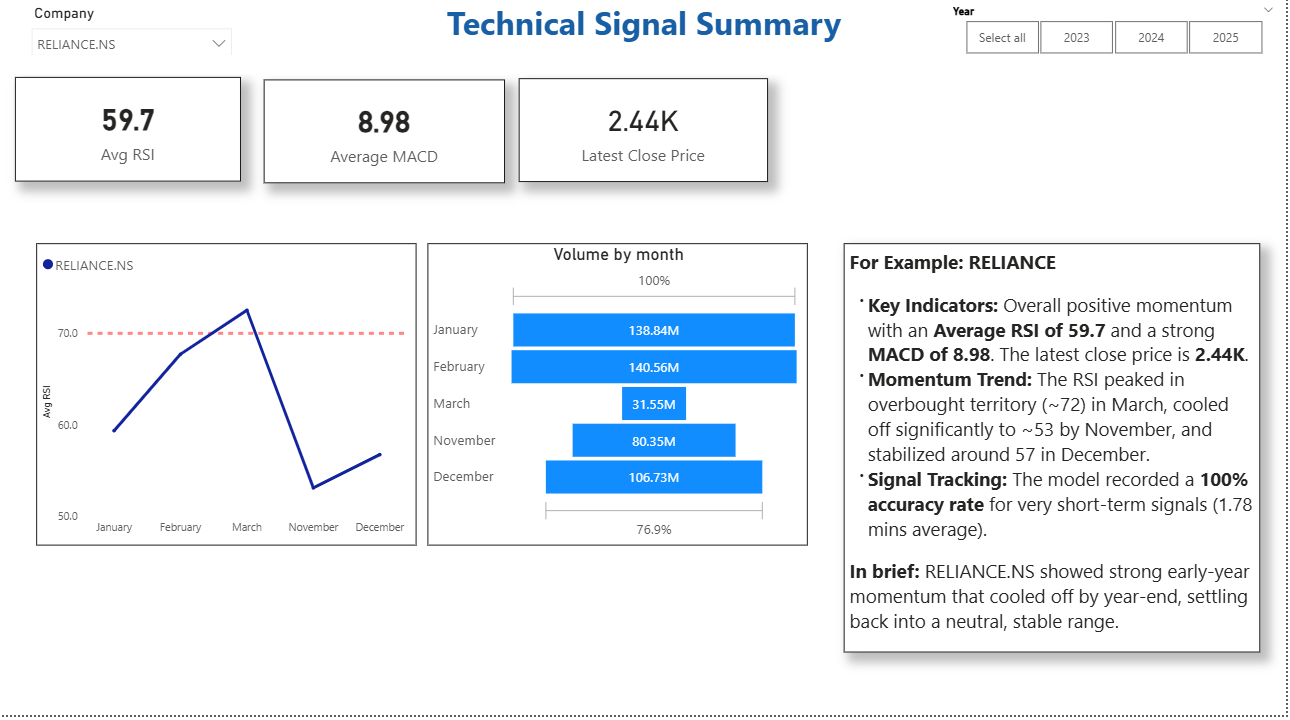

What the dashboard file says about the page in this screenshot:
{"tool":"powerbi","page":{"name":"Panel 3","canvas":[1280,720],"ordinal":3},"visuals":[{"type":"card","fields":{"Values":["Fact_Technicals.Avg RSI"]},"box":[15.1,85.1,225,104.3],"z":0},{"type":"card","fields":{"Values":["Avg(Fact_Technicals.MACD)"]},"box":[262.7,86.6,240.3,103],"z":1000},{"type":"card","fields":{"Values":["Fact_Technicals.Latest Close Price"]},"box":[516,86.4,248.4,102.9],"z":2000},{"type":"textbox","box":[839.8,249.7,414.4,407.5],"z":3000},{"type":"textbox","box":[15,3.3,1251.7,78.3],"z":4000},{"type":"slicer","fields":{"Values":["Dim_Company.Ticker"]},"box":[20.6,6.9,219.6,54.9],"z":5000},{"type":"lineChart","fields":{"Category":["Dim_Date.Date.Variation.Date Hierarchy.Month"],"Series":["Dim_Company.Ticker"],"Y":["Fact_Technicals.Avg RSI"]},"box":[35.7,249.7,378.7,300.5],"z":6000},{"type":"slicer","fields":{"Values":["Dim_Date.Year"]},"box":[935.6,6.9,344.4,60.4],"z":7000},{"type":"funnel","title":"Volume by month","fields":{"Category":["Dim_Date.Date.Variation.Date Hierarchy.Month"],"Y":["Sum(Fact_Technicals.Volume)"]},"box":[425.4,249.7,378.7,300.5],"z":8000}]}

Visuals, with their boxes in screenshot pixels (x1, y1, x2, y2), scaled from the page's 1280x720 canvas onto the 1290x720 screenshot:
card - Fact_Technicals.Avg RSI: (15, 85, 242, 189)
card - Avg(Fact_Technicals.MACD): (265, 87, 507, 190)
card - Fact_Technicals.Latest Close Price: (520, 86, 770, 189)
textbox: (846, 250, 1264, 657)
textbox: (15, 3, 1277, 82)
slicer - Dim_Company.Ticker: (21, 7, 242, 62)
lineChart - Dim_Date.Date.Variation.Date Hierarchy.Month x Dim_Company.Ticker: (36, 250, 418, 550)
slicer - Dim_Date.Year: (943, 7, 1289, 67)
"Volume by month" funnel: (429, 250, 810, 550)
